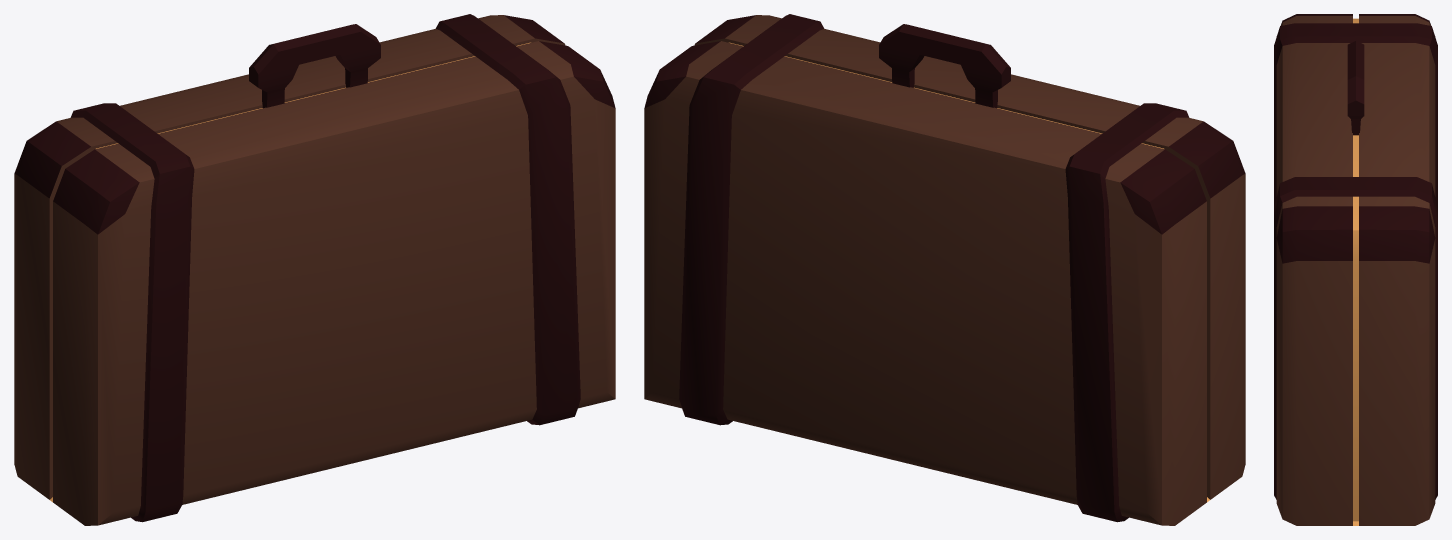
The model's file is Koffer.fbx.
3 renders of one model, left to right at view 1: azimuth 30°, elevation 25°; view 2: azimuth 150°, elevation 25°; view 3: azimuth 270°, elevation 25°, orthographic. The views are drawn at different scales.
Visible parts, largest first — view 1: Koffer; view 2: Koffer; view 3: Koffer.
Boxes of the visible parts, x1,y1,x2,y2 form: Koffer: (14,14,615,525); Koffer: (644,14,1245,525); Koffer: (1274,14,1437,525).
Bounding box in the file's own units: 102 × 75.87 × 31.33.
